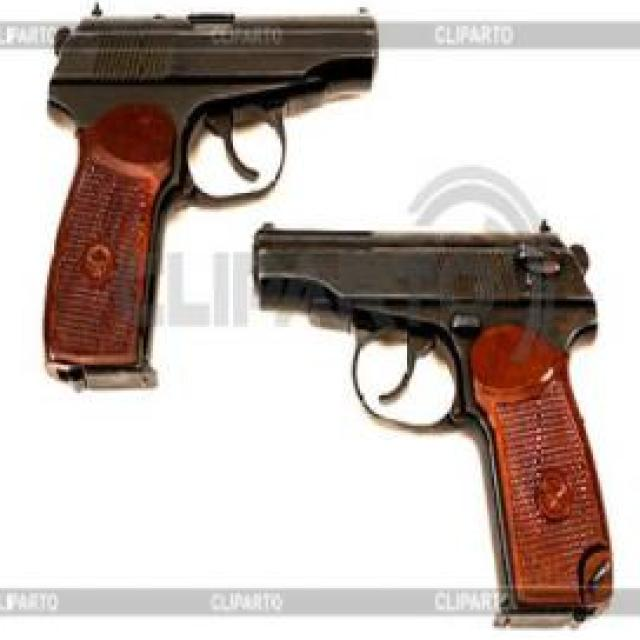pistol: (263, 209, 613, 627), (45, 0, 381, 398)
